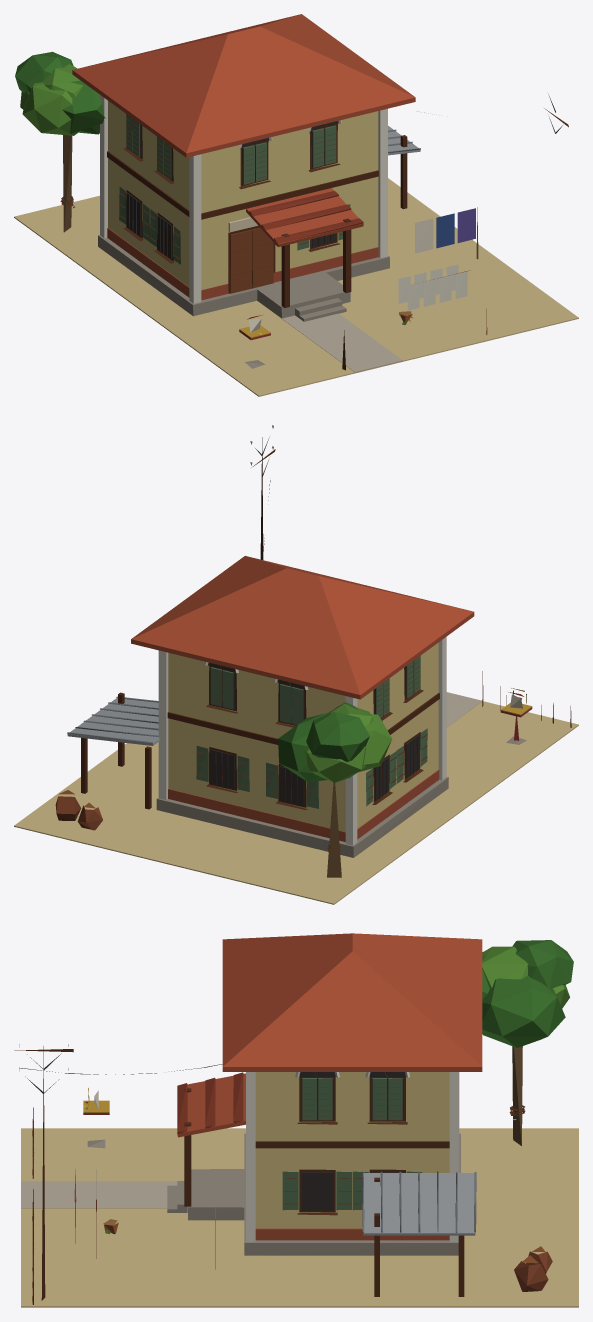
The model's file is house12_1.glb.
3 renders of one model, top to bottom at view 1: azimuth 30°, elevation 25°; view 2: azimuth 150°, elevation 25°; view 3: azimuth 270°, elevation 25°, orthographic. The views are drawn at different scales.
Parts seen in each view (by area): view 1: body, windows; view 2: body, windows; view 3: body, windows.
Boxes of the visible parts, x1=… form: body: x1=14, y1=14, x2=578, y2=396; windows: x1=126, y1=121, x2=338, y2=258; body: x1=14, y1=425, x2=578, y2=904; windows: x1=208, y1=662, x2=420, y2=805; body: x1=14, y1=933, x2=578, y2=1307; windows: x1=299, y1=1072, x2=405, y2=1210.
Bounding box in the file's own units: 12.71 × 8.43 × 16.1.
